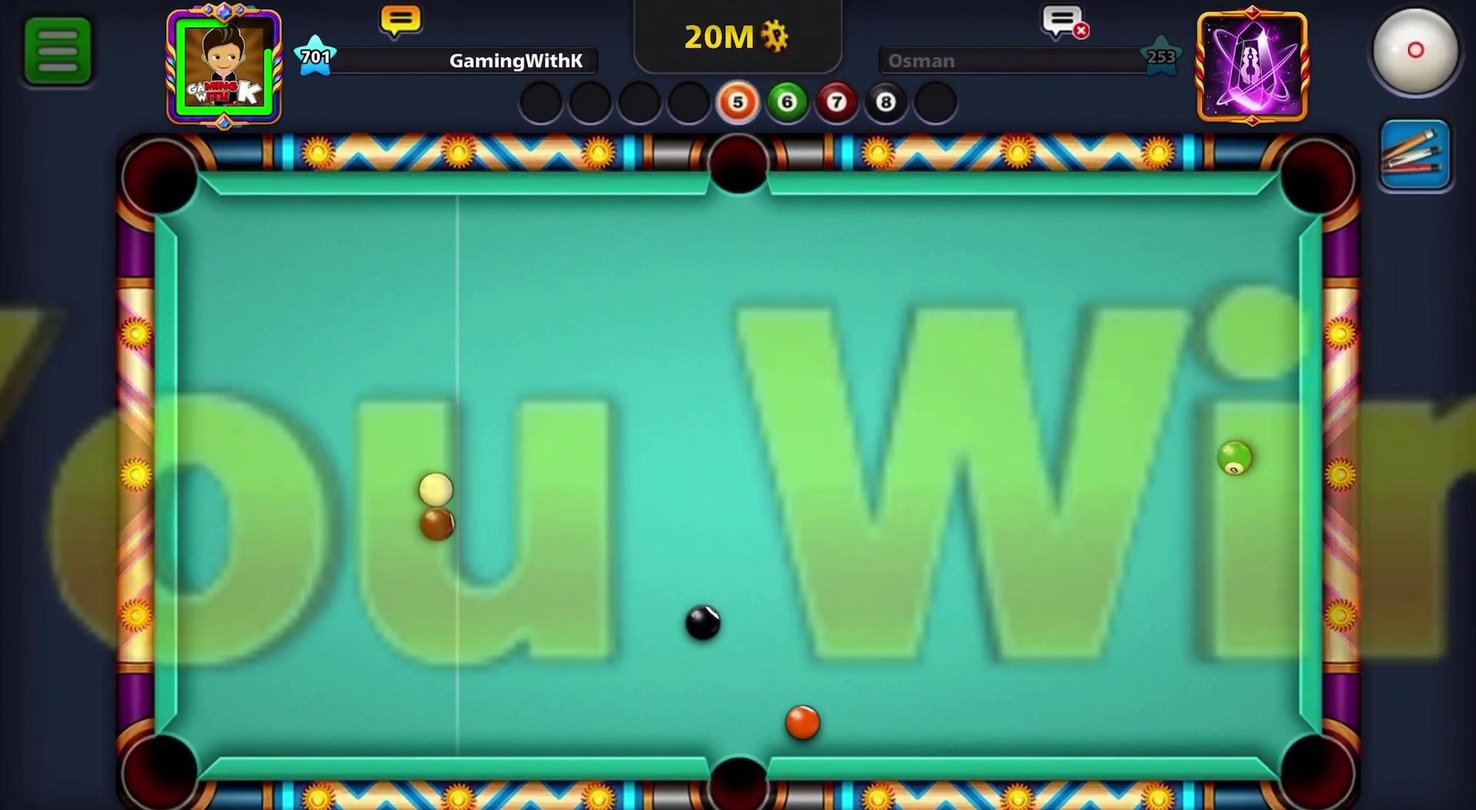Ball: (678, 599, 726, 646), (777, 699, 825, 745), (415, 468, 454, 508), (418, 506, 455, 542), (1217, 440, 1251, 477)
Hole: (110, 129, 209, 227), (1268, 133, 1364, 229), (112, 715, 208, 809), (1268, 722, 1361, 809), (689, 739, 785, 809), (703, 127, 773, 202)
Play_Area: (168, 194, 1308, 759)
Spin: (1343, 0, 1474, 114)
